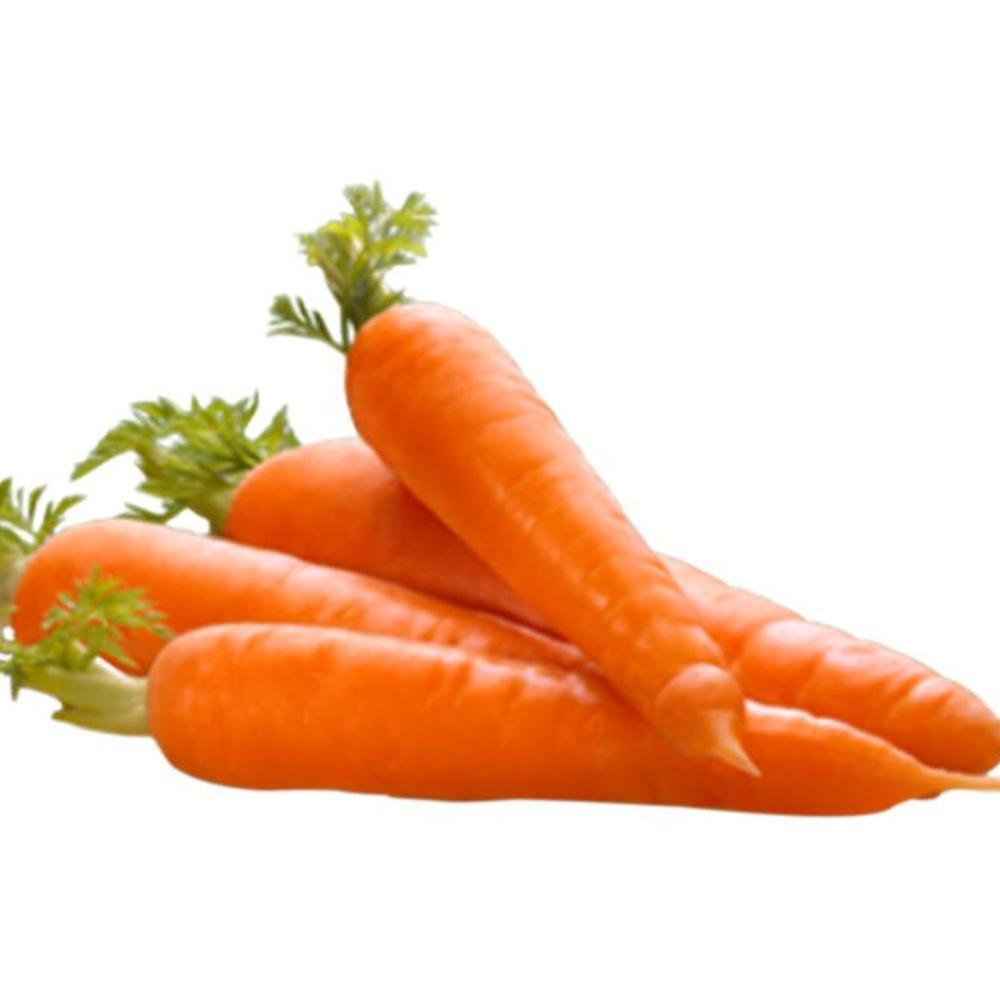carrot: (138, 149, 830, 814), (5, 476, 1000, 841)
